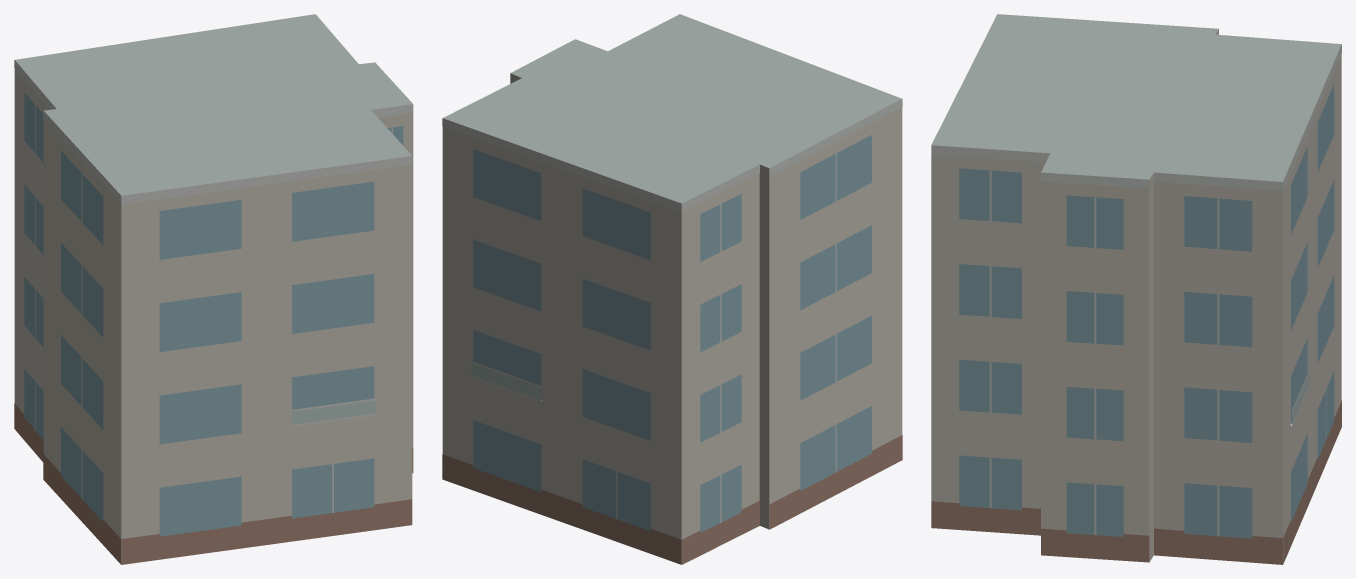
The model's file is survey-upis-32529281.glb.
3 views of the same model, side by side, from view 1: azimuth 30°, elevation 25°; view 2: azimuth 150°, elevation 25°; view 3: azimuth 270°, elevation 25° (orthographic). The views are drawn at different scales.
Visible parts, largest first — view 1: survey-upis-32529281.tmp; view 2: survey-upis-32529281.tmp; view 3: survey-upis-32529281.tmp.
Part boxes in pixels (box(x1,y1,x2,y2)): survey-upis-32529281.tmp: box(14, 14, 413, 564); survey-upis-32529281.tmp: box(442, 14, 902, 564); survey-upis-32529281.tmp: box(931, 14, 1341, 564).
Bounding box in the file's own units: 9.8 × 10.4 × 10.12.
